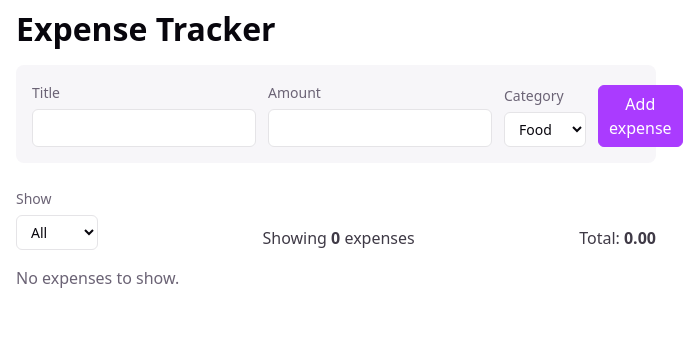
App › does not add a row for invalid input
The image size is (700, 341).
In the field labelled "Title": (144, 128) x1=32 y1=109 x2=256 y2=147, type "Refund"
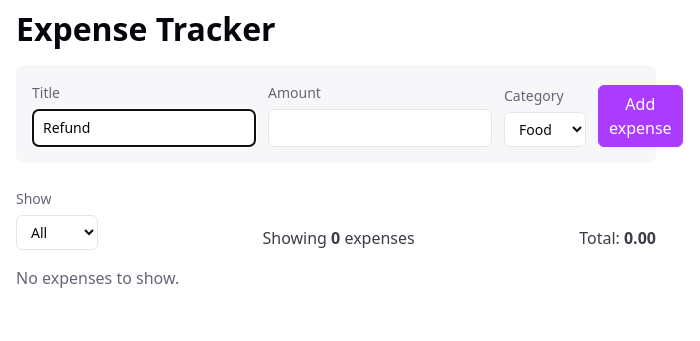
In the field labelled "Amount": (380, 128) x1=268 y1=109 x2=492 y2=147, type "-50"
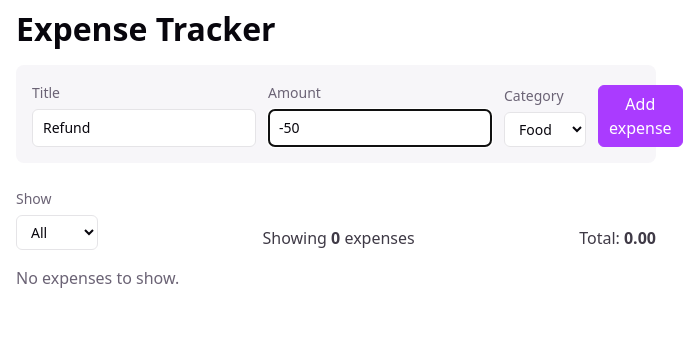
Select "Other" in the dropdown labelled "Category": (545, 130) x1=504 y1=112 x2=586 y2=147
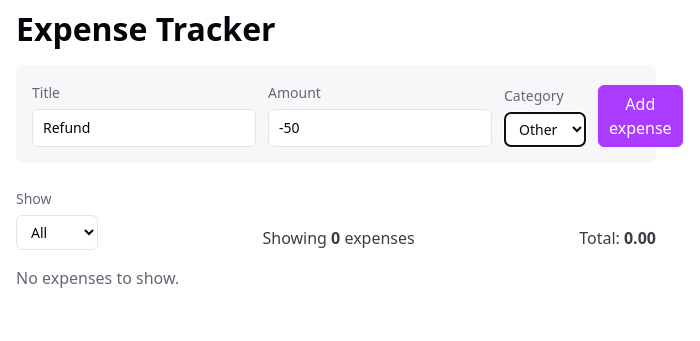
Click the button "Add expense": (640, 116) x1=598 y1=85 x2=683 y2=147
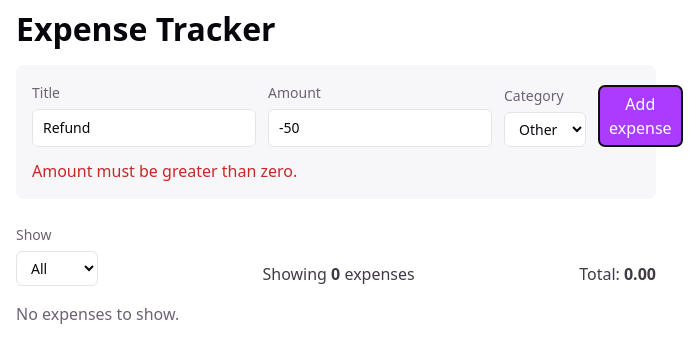
Expected: the message "Amount must be greater than zero." is shown, x1=32 y1=160 x2=297 y2=182
